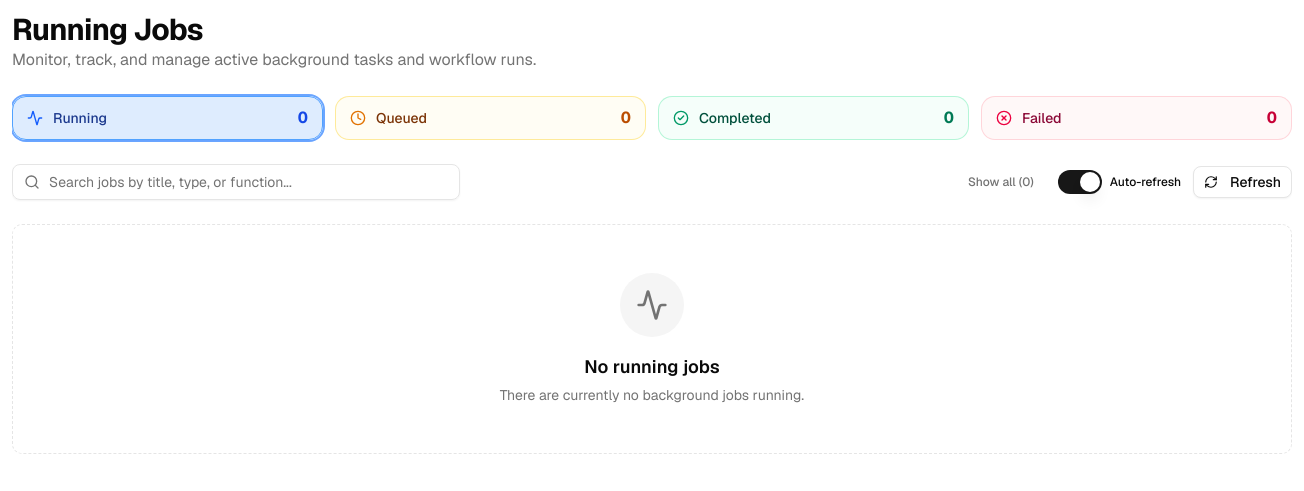
Test case: Running Jobs Page & JobsView Component › handles empty states for 'Running' and filtered search results
The width and height of the screenshot is (1304, 491).
Check: the heading "No running jobs" is shown, box [584,353,720,381]
Check: the text "There are currently no background jobs running." is shown, box [500,385,804,405]
# Switch tab to queued
Click the tab "Queued 0": (401, 118) [335,96,646,140]
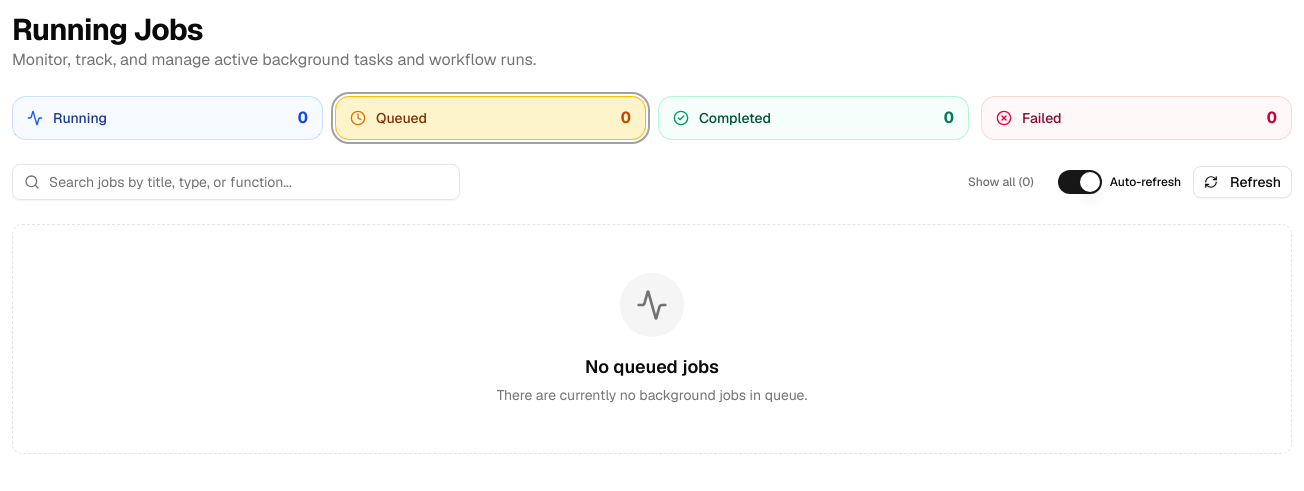
Check: the heading "No queued jobs" is shown, box [585,353,719,381]
# Switch tab to completed
Click the tab "Completed 0": (735, 118) [658,96,969,140]
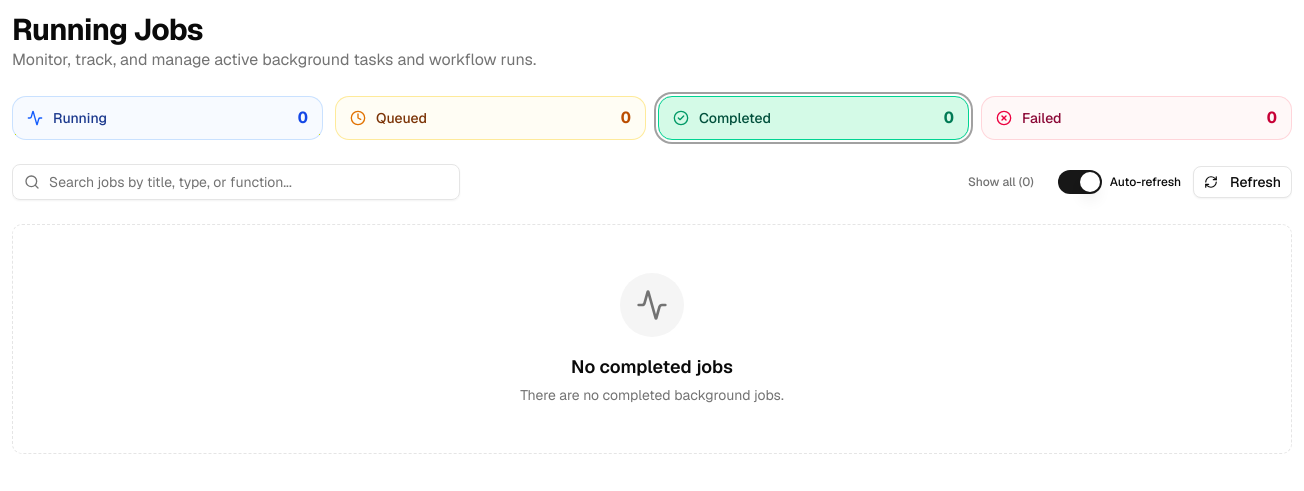
Check: the heading "No completed jobs" is shown, box [571,353,733,381]
# Switch tab to failed
Click the tab "Failed 0": (1042, 118) [981,96,1292,140]
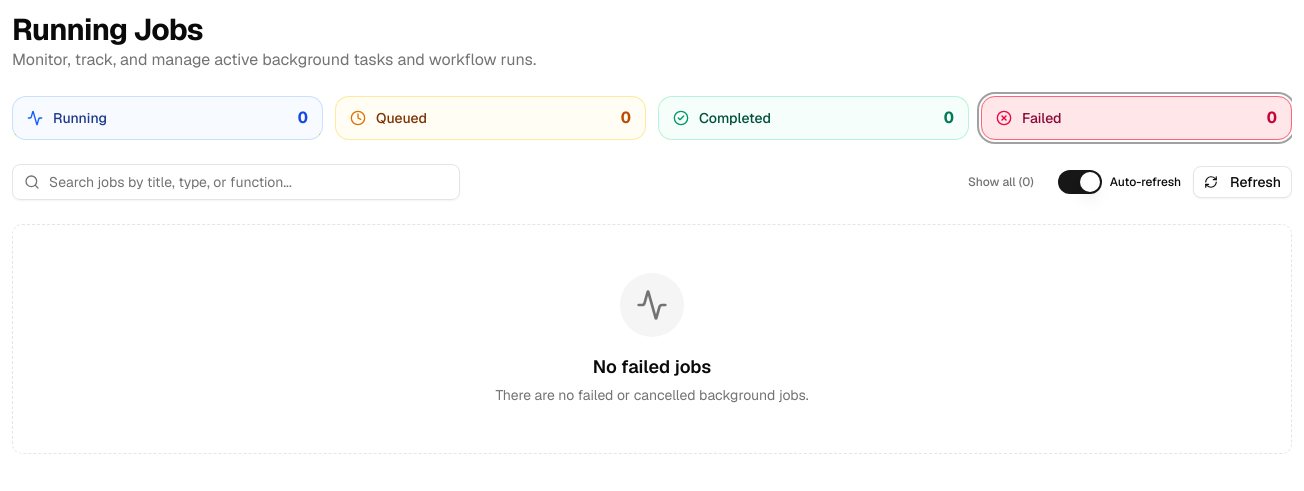
Check: the heading "No failed jobs" is shown, box [593,353,711,381]
In the field with placeholder "Search jobs by title, type, or function...": (236, 182) [12,164,460,200], type "nonexistent"
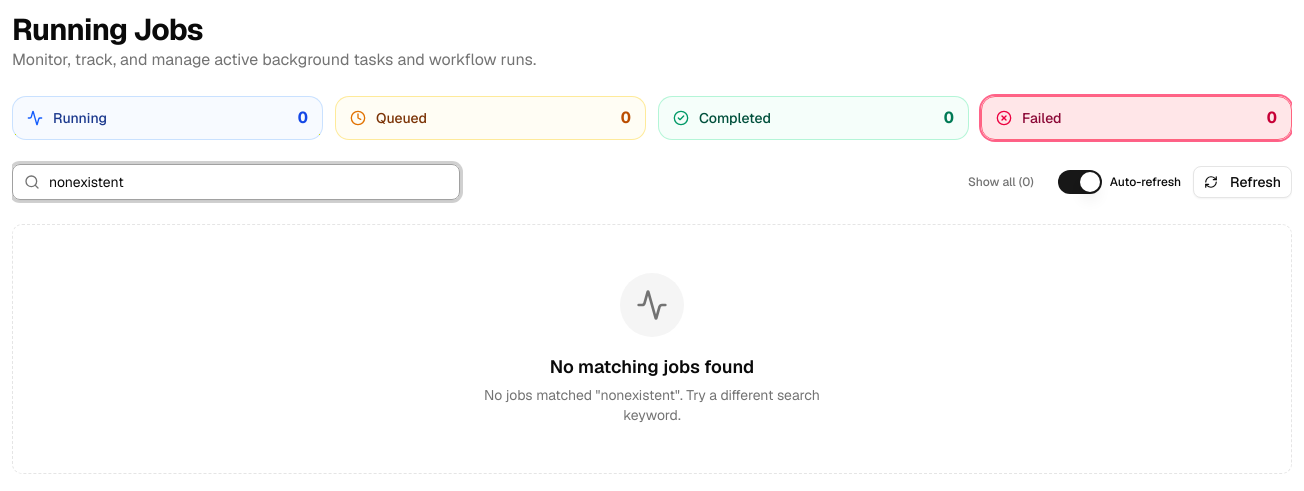
Check: the heading "No matching jobs found" is shown, box [550,353,754,381]
Check: the text "No jobs matched \"nonexistent\"" is shown, box [484,386,820,424]
